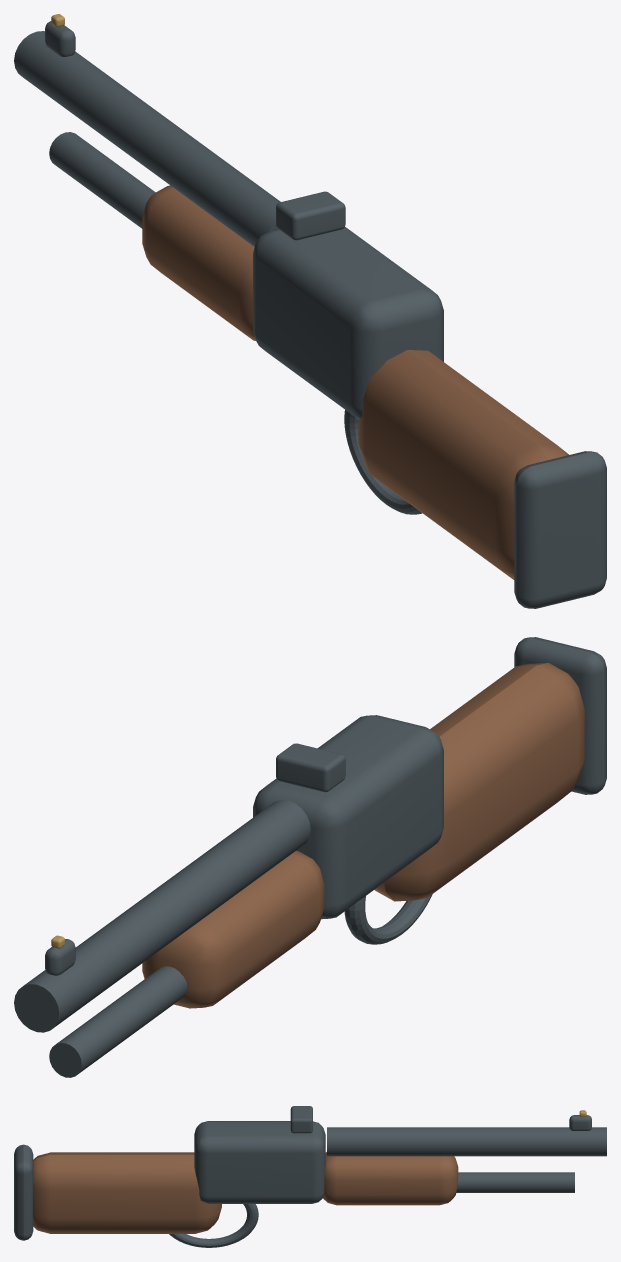
The model's file is field-lever-rifle.glb.
The picture shows the model from 3 angles, top to bottom: view 1: azimuth 30°, elevation 25°; view 2: azimuth 150°, elevation 25°; view 3: azimuth 270°, elevation 25°; orthographic projection. The views are drawn at different scales.
Visible parts, largest first — view 1: Blued rifle steel, Polished walnut rifle furniture; view 2: Blued rifle steel, Polished walnut rifle furniture; view 3: Blued rifle steel, Polished walnut rifle furniture.
Boxes of the visible parts, <box> form: Blued rifle steel: <box>14,21,606,608</box>; Polished walnut rifle furniture: <box>142,185,568,579</box>; Blued rifle steel: <box>14,637,606,1077</box>; Polished walnut rifle furniture: <box>142,662,584,1008</box>; Blued rifle steel: <box>14,1106,606,1247</box>; Polished walnut rifle furniture: <box>33,1152,458,1233</box>.
Bounding box in the file's own units: 0.1 × 0.2572 × 1.02.
